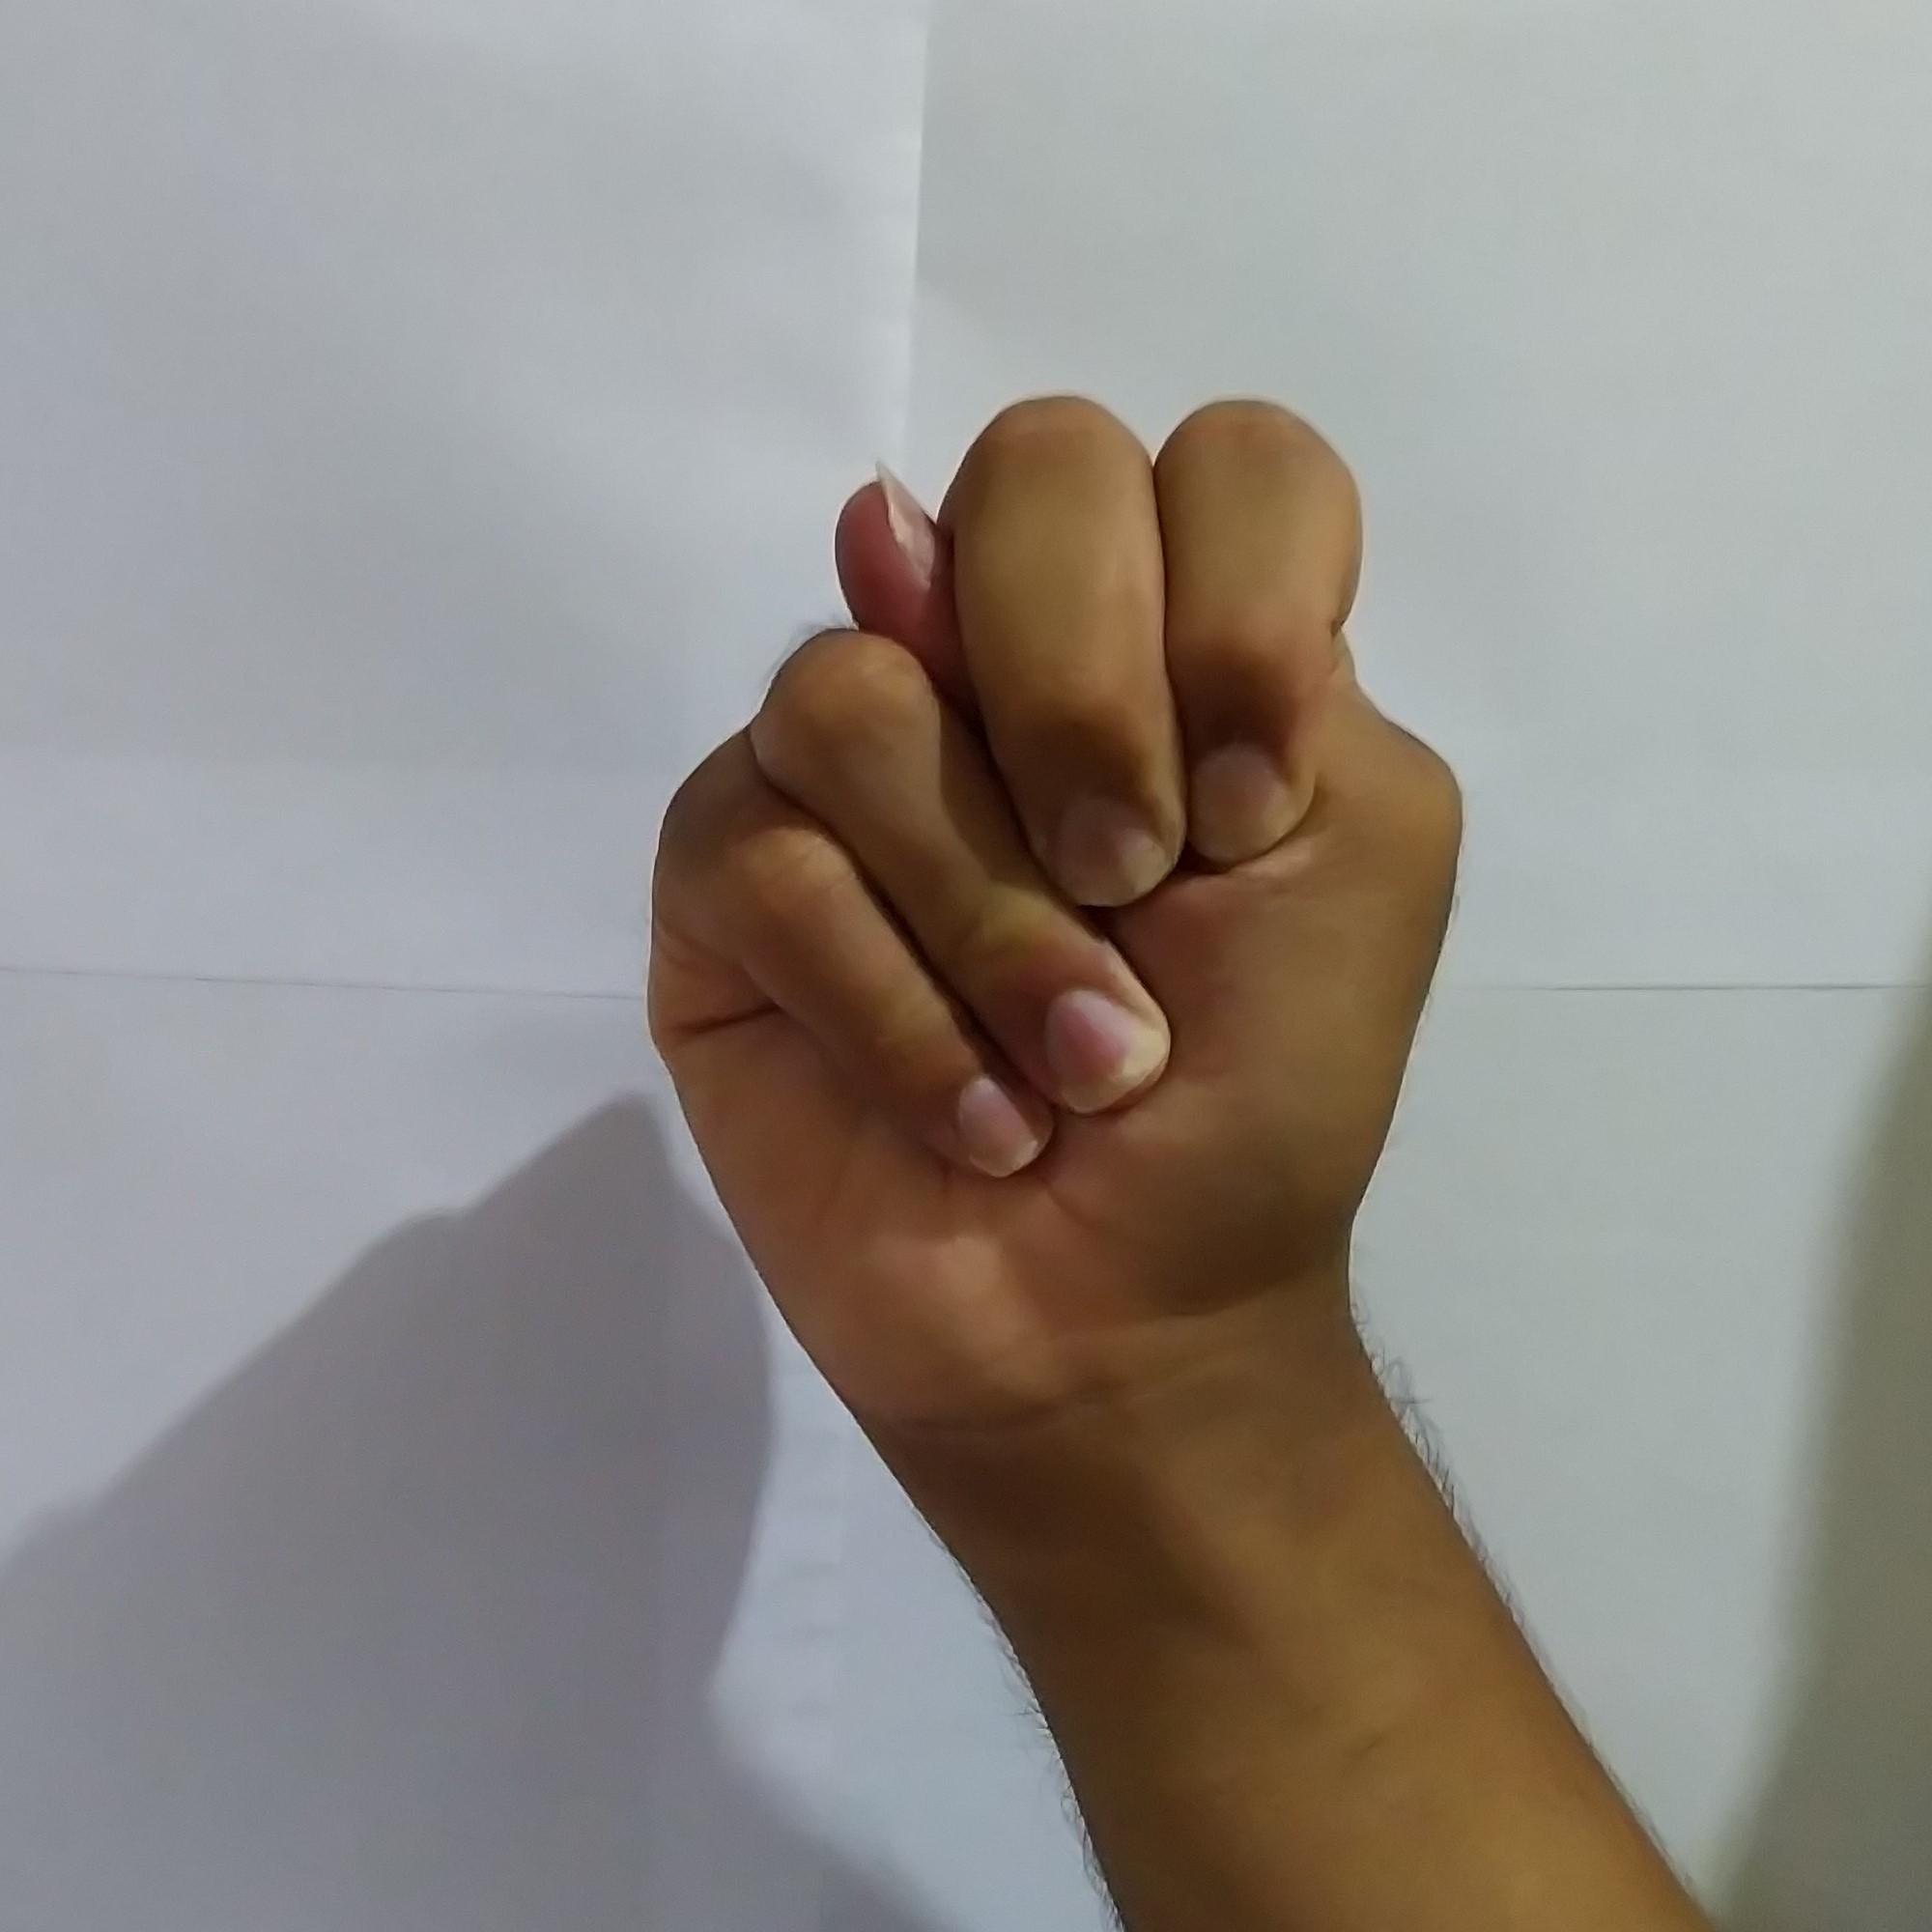N: (626, 361, 1483, 1384)
